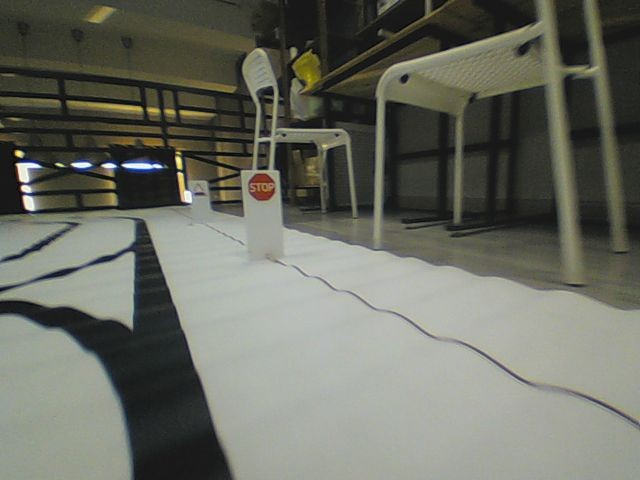Stop: (247, 172, 276, 202)
